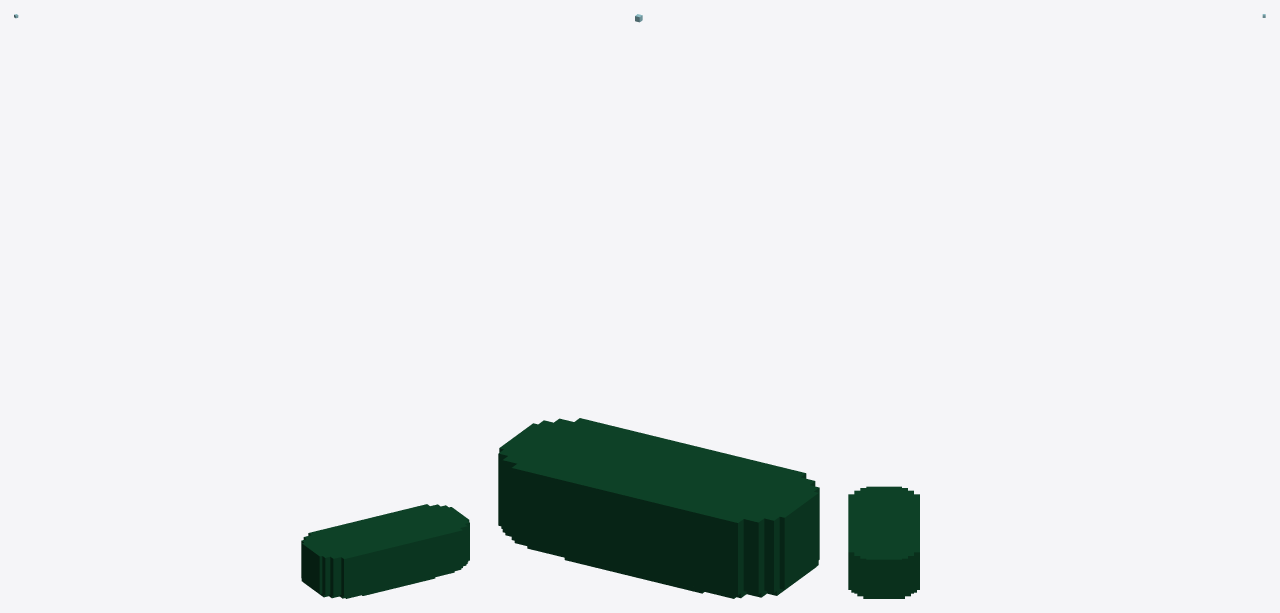
Rendered from SM_ForgeGolem_Pelvis.fbx.
3 views of the same model, side by side, from view 1: azimuth 30°, elevation 25°; view 2: azimuth 150°, elevation 25°; view 3: azimuth 270°, elevation 25° (orthographic). The views are drawn at different scales.
Visible parts, largest first — view 1: SM_ForgeGolem_Pelvis; view 2: SM_ForgeGolem_Pelvis; view 3: SM_ForgeGolem_Pelvis.
Part boxes in pixels (left/top/right/bottom): SM_ForgeGolem_Pelvis: left=14, top=14, right=469, bottom=598; SM_ForgeGolem_Pelvis: left=498, top=14, right=819, bottom=598; SM_ForgeGolem_Pelvis: left=848, top=14, right=1265, bottom=598.
Size of the model in its own units: 990 by 1730 by 1400.
